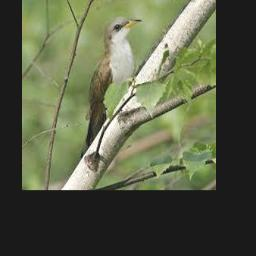Cuckoo: (80, 17, 142, 159)
